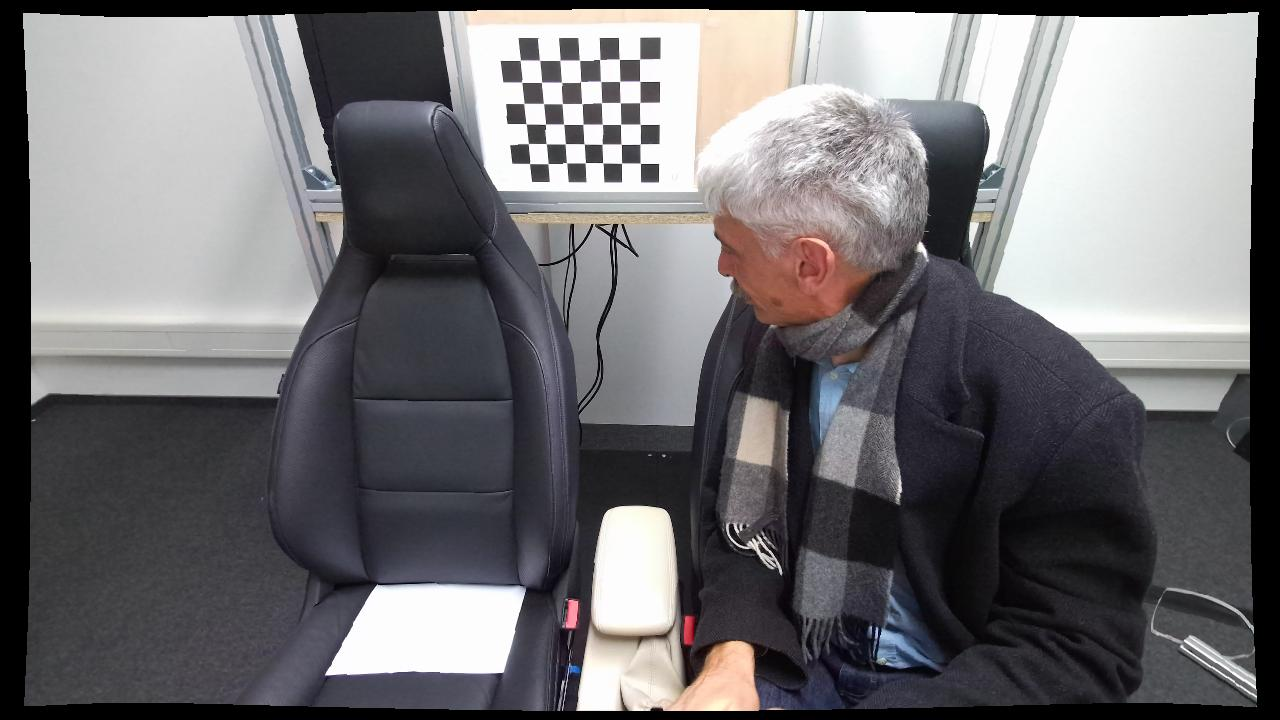Distracted: (661, 83, 1160, 713)
